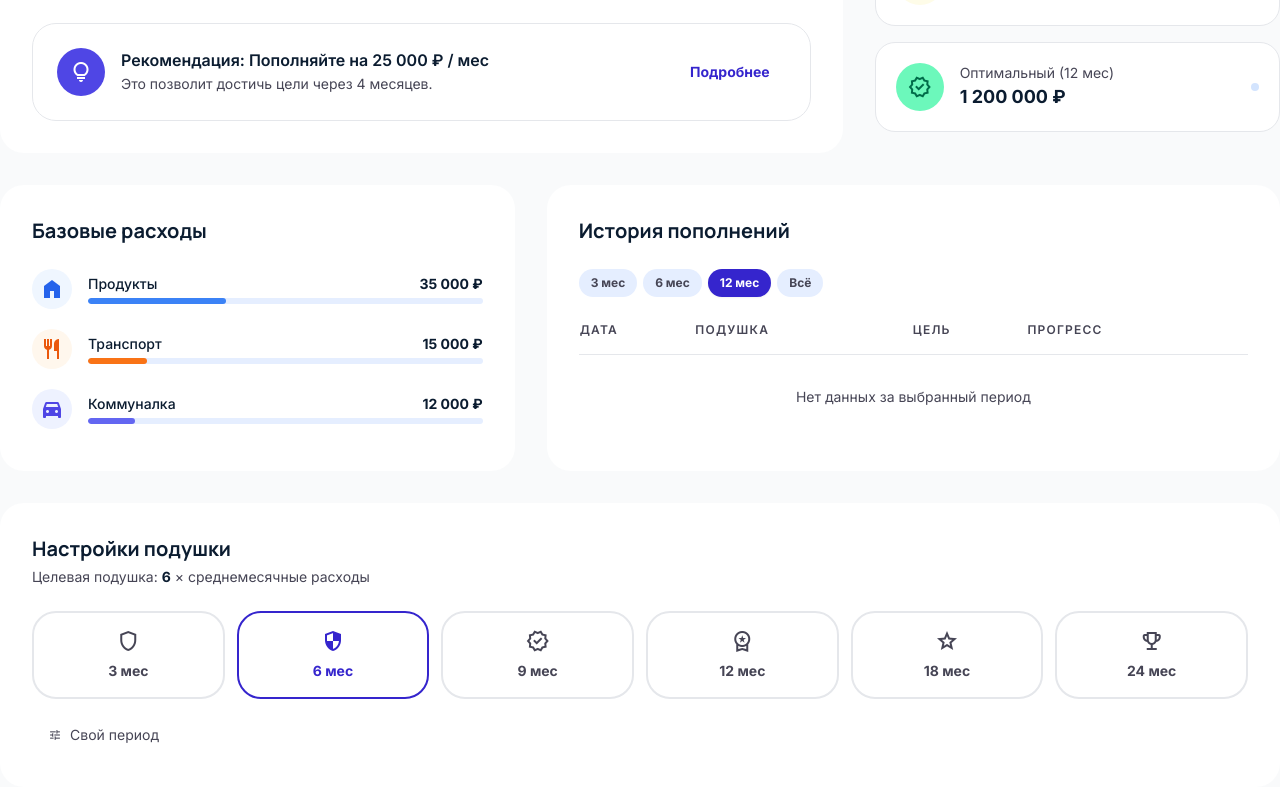
Scenario: SafetyPillow › shows custom input when custom period button is clicked
(page scrolled)
Expected: the heading "Настройки подушки" is shown, [32,534,231,562]
Click the button "Свой период" at point(104, 734), box [32,714,175,754]
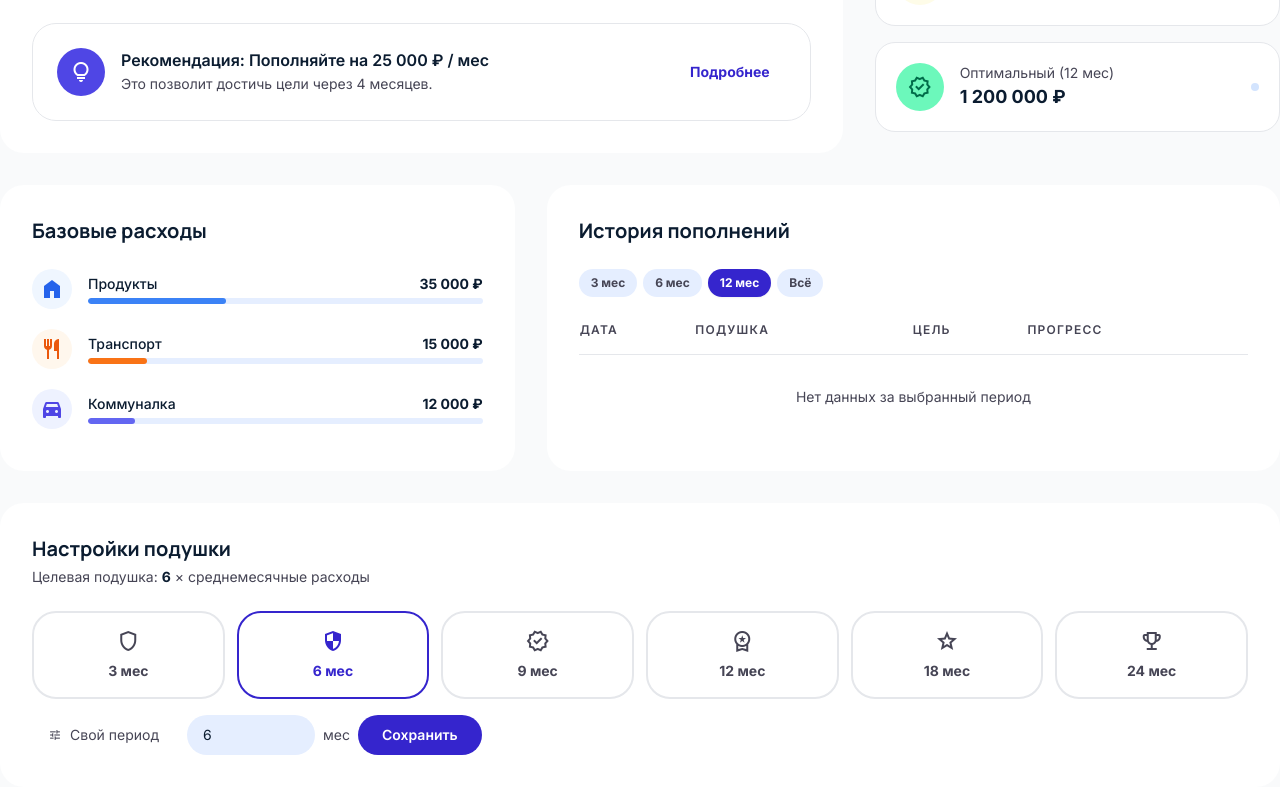
Now the number field with placeholder "1-24" is shown, box [187,714,315,754]
Now the button "Сохранить" is shown, box [358,714,482,754]
